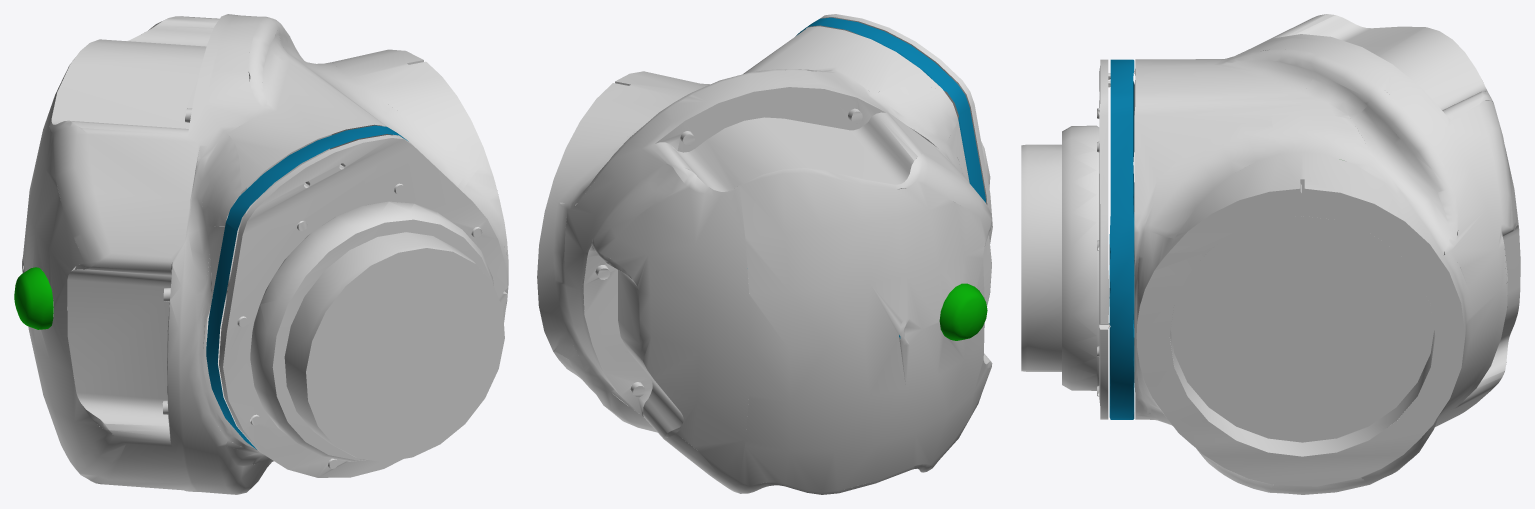
3 views of the same model, side by side, from view 1: azimuth 30°, elevation 25°; view 2: azimuth 150°, elevation 25°; view 3: azimuth 270°, elevation 25° (orthographic). The views are drawn at different scales.
Visible parts, largest first — view 1: f_1-06vxcp20-b0_lk5; view 2: f_1-06vxcp20-b0_lk5; view 3: f_1-06vxcp20-b0_lk5.
Part boxes in pixels (x1=…): f_1-06vxcp20-b0_lk5: x1=14, y1=14, x2=508, y2=494; f_1-06vxcp20-b0_lk5: x1=537, y1=14, x2=992, y2=494; f_1-06vxcp20-b0_lk5: x1=1021, y1=14, x2=1520, y2=494.
Size of the model in its own units: 0.2194 by 0.2406 by 0.22.
